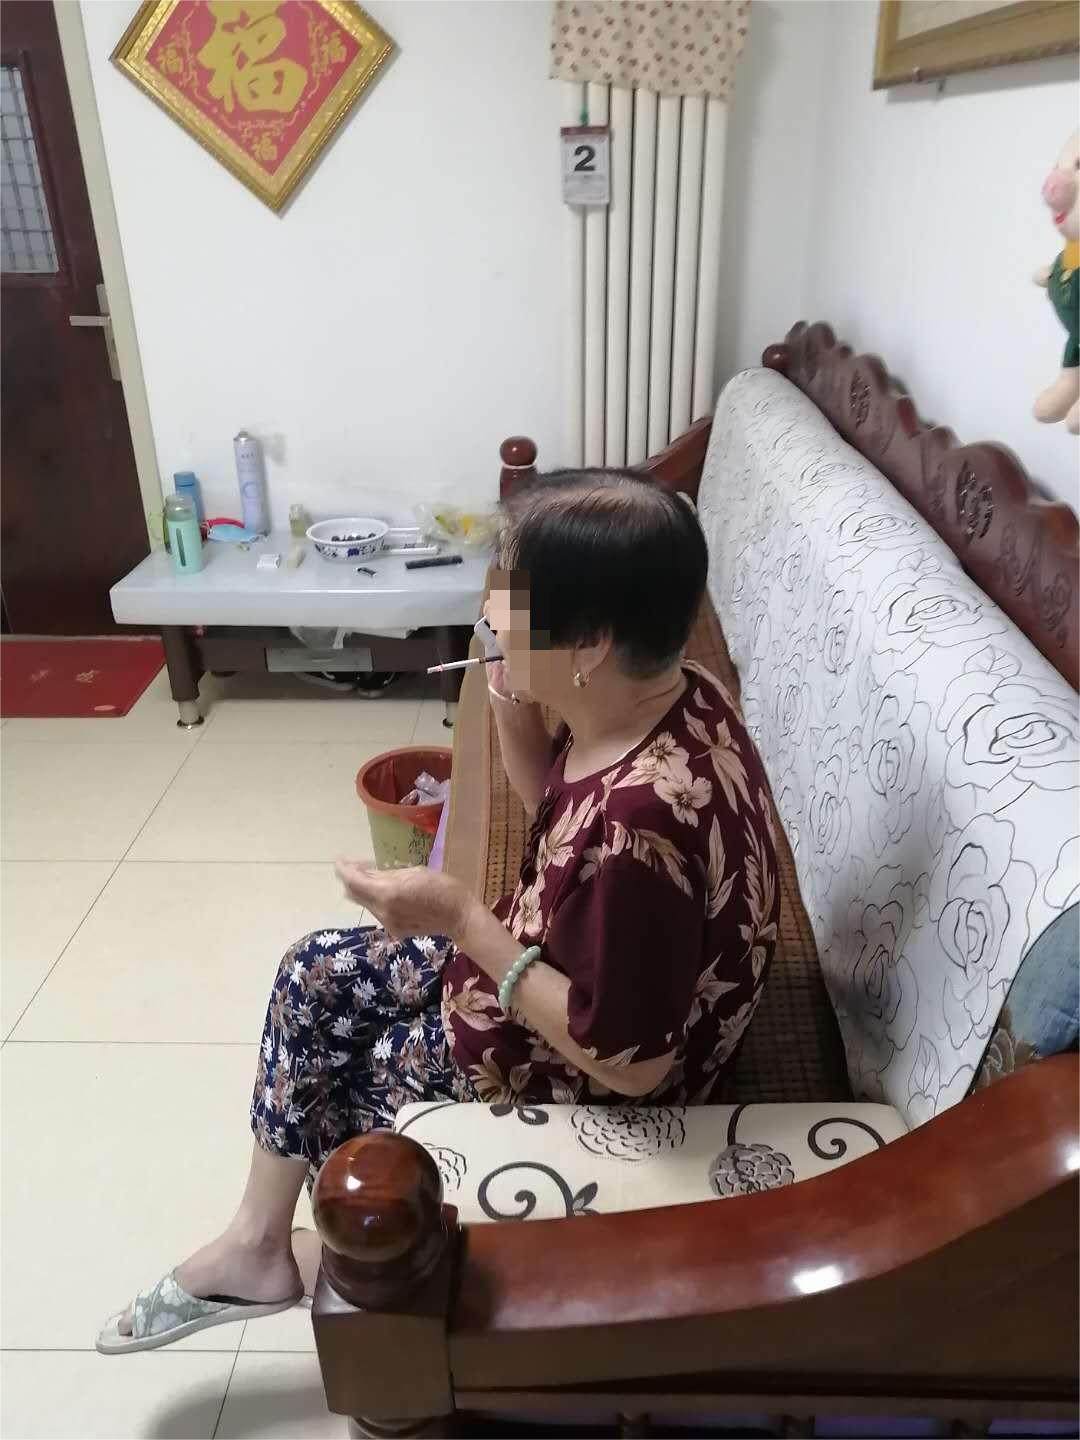smoke: (422, 654, 500, 681)
